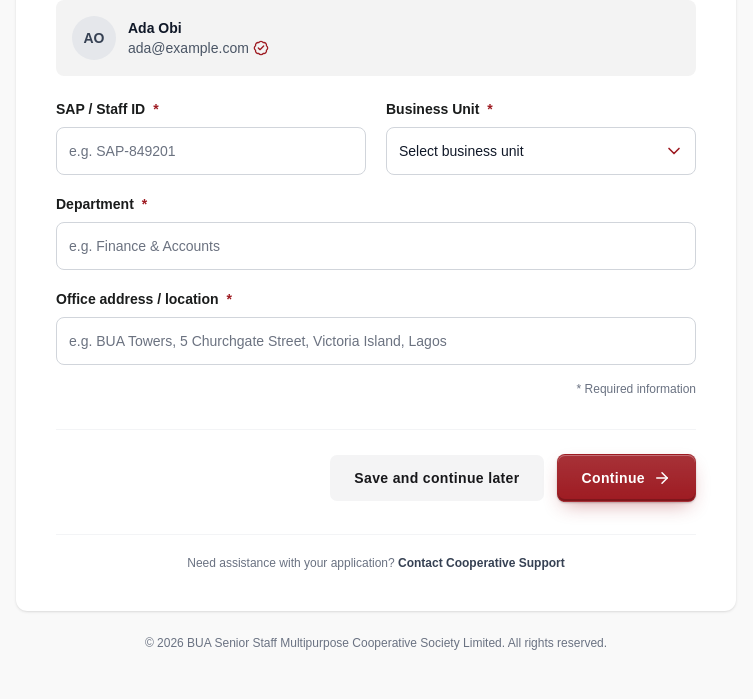
Employment: validation › Continue requires all four fields and sends nothing until they are filled
(page scrolled)
Check: the field labelled "SAP / Staff ID *" is shown, box [56,127,366,175]
Click the button "Continue" at (626, 478), box [556,454,696,502]
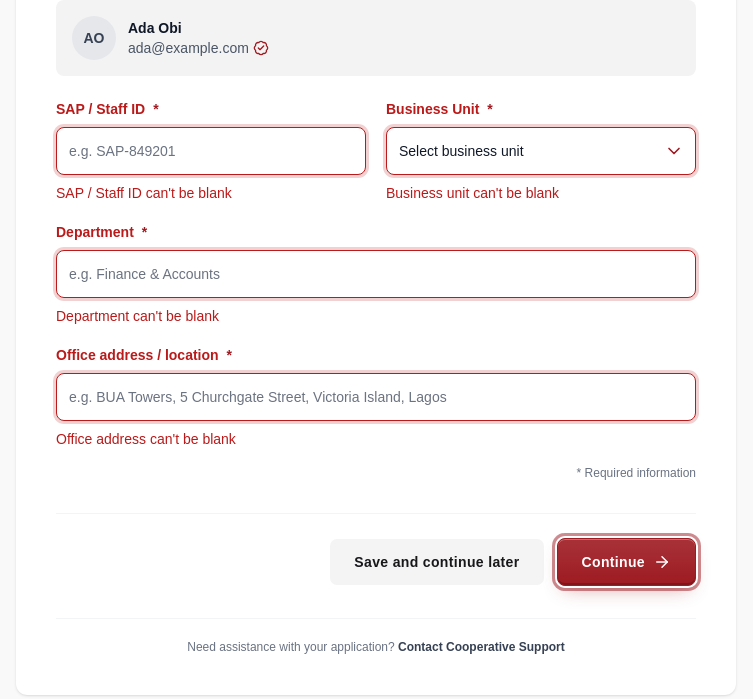
Check: the text "SAP / Staff ID can't be blank" is shown, box [56,185,232,201]
Check: the text "Business unit can't be blank" is shown, box [386,185,559,201]
Check: the text "Department can't be blank" is shown, box [56,308,219,324]
